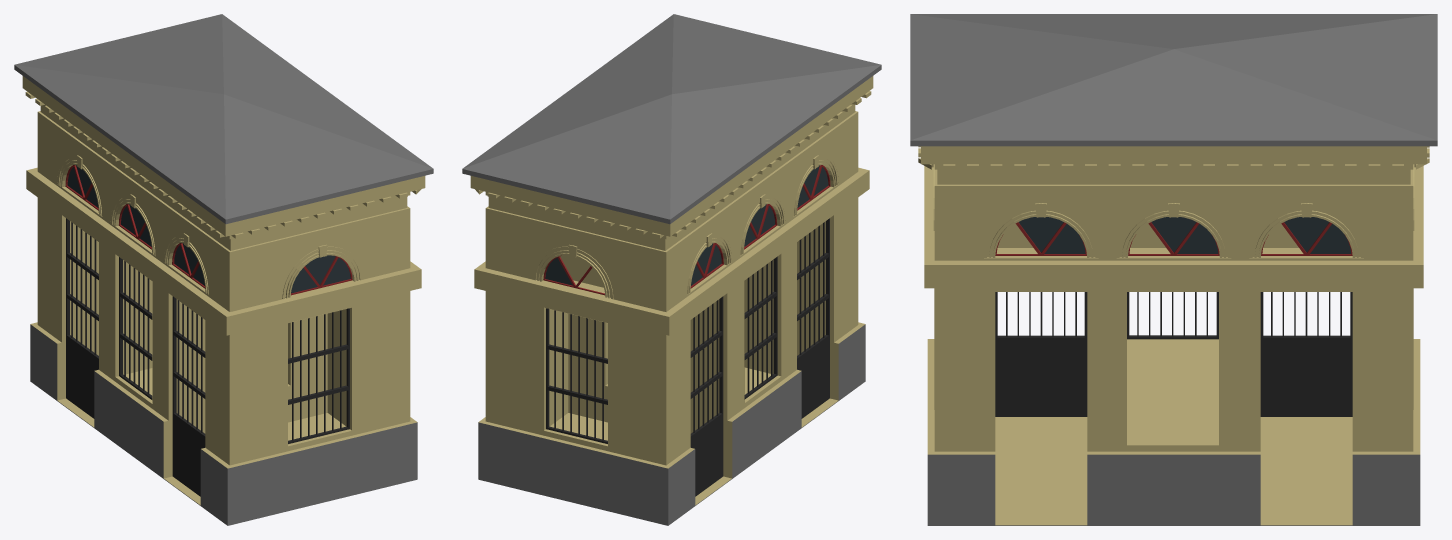
File: Prohod.glb
3 renders of one model, left to right at view 1: azimuth 30°, elevation 25°; view 2: azimuth 150°, elevation 25°; view 3: azimuth 270°, elevation 25°, orthographic. The views are drawn at different scales.
Visible parts, largest first — view 1: Проходная старая, Проходная старая кровля, Проходная старая_дверь, Проходная старая окно, Проходная старая окно круг, Проходная старая окно.001, Проходная старая окно круг.001, проходная старая карниз, Проходная старая окно круг.002; view 2: Проходная старая, Проходная старая кровля, Проходная старая_дверь, Проходная старая окно.001, Проходная старая окно, Проходная старая окно круг, Проходная старая окно круг.001, проходная старая карниз, Проходная старая окно круг.002; view 3: Проходная старая, Проходная старая кровля, Проходная старая_дверь, Проходная старая окно круг, Проходная старая окно круг.002, проходная старая карниз, Проходная старая окно.001.
Boxes of the visible parts, <box> form: Проходная старая: <box>22,76,425,525</box>; Проходная старая кровля: <box>14,14,433,224</box>; Проходная старая_дверь: <box>66,218,205,496</box>; Проходная старая окно: <box>288,308,349,443</box>; Проходная старая окно круг: <box>57,155,209,295</box>; Проходная старая окно.001: <box>115,254,152,403</box>; Проходная старая окно круг.001: <box>282,244,362,299</box>; проходная старая карниз: <box>25,91,421,238</box>; Проходная старая окно круг.002: <box>110,194,156,256</box>; Проходная старая: <box>470,76,873,525</box>; Проходная старая кровля: <box>462,14,881,224</box>; Проходная старая_дверь: <box>690,218,832,496</box>; Проходная старая окно.001: <box>744,254,781,403</box>; Проходная старая окно: <box>546,308,607,443</box>; Проходная старая окно круг: <box>686,155,838,295</box>; Проходная старая окно круг.001: <box>533,244,613,299</box>; проходная старая карниз: <box>475,91,871,238</box>; Проходная старая окно круг.002: <box>739,194,785,256</box>; Проходная старая: <box>921,146,1426,525</box>; Проходная старая кровля: <box>910,14,1437,146</box>; Проходная старая_дверь: <box>995,292,1352,416</box>; Проходная старая окно круг: <box>984,203,1363,257</box>; Проходная старая окно круг.002: <box>1116,203,1231,257</box>; проходная старая карниз: <box>918,146,1429,169</box>; Проходная старая окно.001: <box>1127,292,1218,339</box>.
Bounding box in the file's own units: 0.7711 × 1.19 × 1.36.
